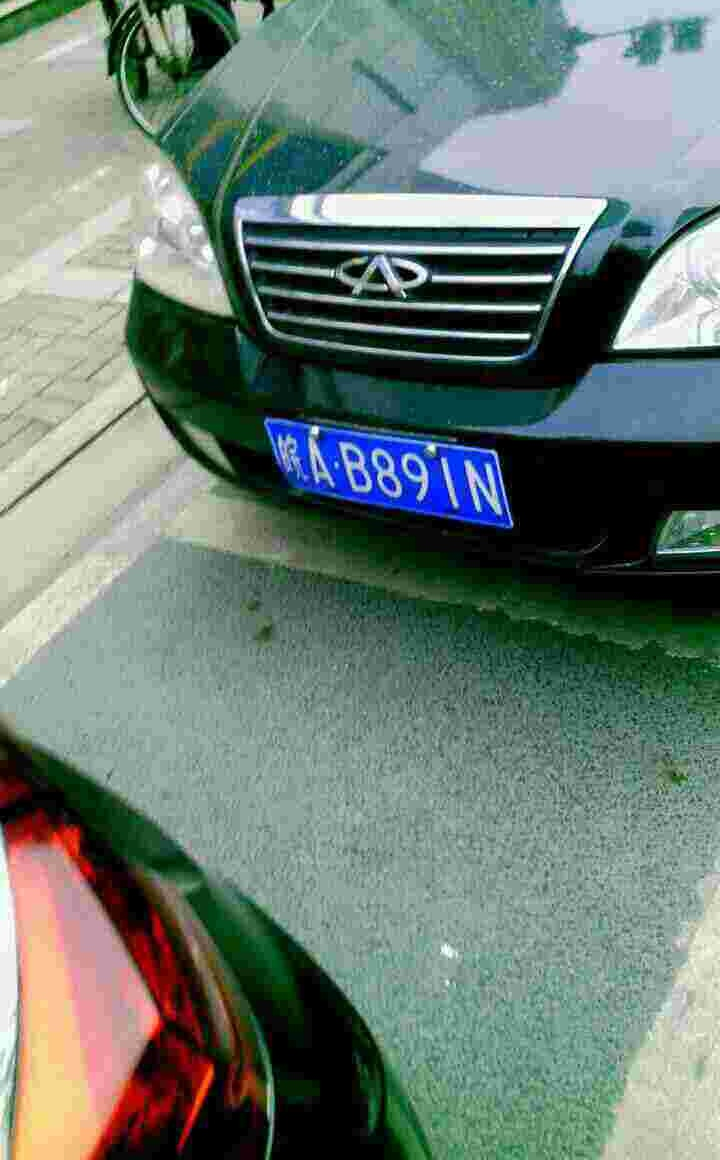license_plate: (271, 420, 509, 533)
